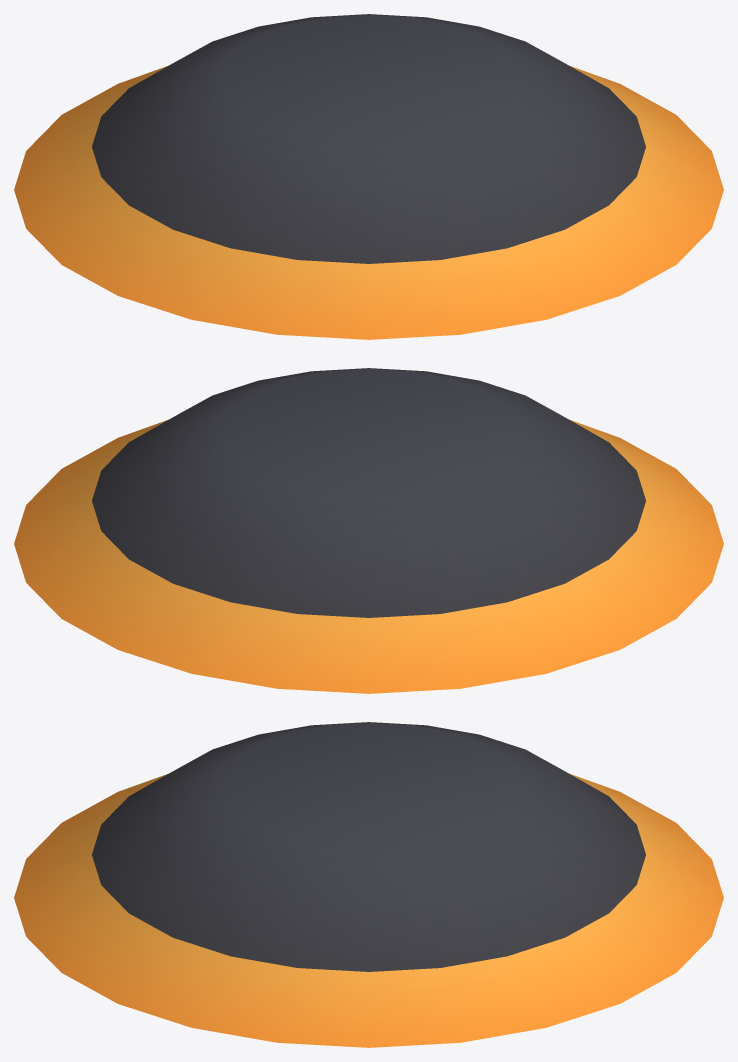
File: track-bump.glb
The picture shows the model from 3 angles, top to bottom: view 1: azimuth 30°, elevation 25°; view 2: azimuth 150°, elevation 25°; view 3: azimuth 270°, elevation 25°; orthographic projection.
Visible parts, largest first — view 1: track-bump; view 2: track-bump; view 3: track-bump.
Boxes of the visible parts, box(x1,y1,x2,y2) form: track-bump: box(14, 14, 723, 339); track-bump: box(14, 368, 723, 693); track-bump: box(14, 722, 723, 1047).
Size of the model in its own units: 3.38 by 0.5869 by 3.38.
1 material, 1 textured.
